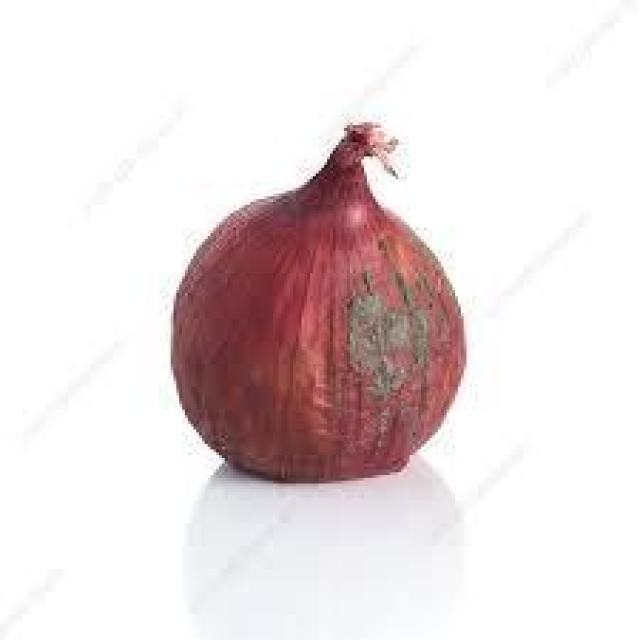Onion: (160, 120, 470, 483)
